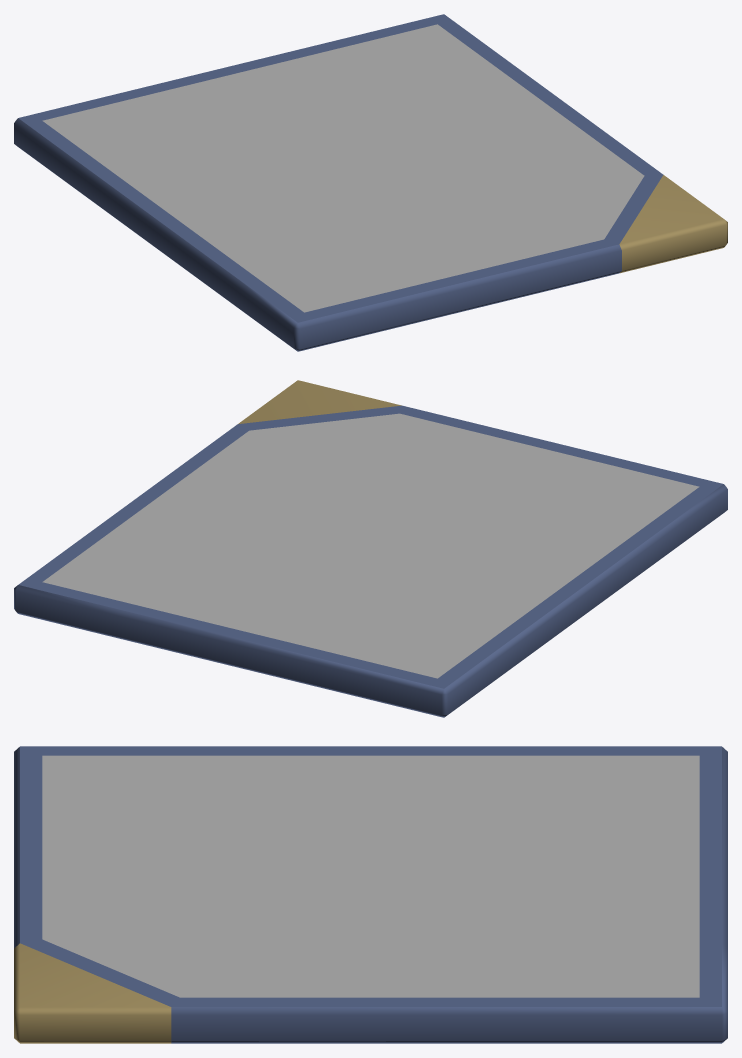
File: ShortSlabStone.fbx
3 views of the same model, one above another, from view 1: azimuth 30°, elevation 25°; view 2: azimuth 150°, elevation 25°; view 3: azimuth 270°, elevation 25° (orthographic). The views are drawn at different scales.
Parts seen in each view (by area): view 1: ShortSlabStone_1, ShortSlabStone_2, ShortSlabStone_3; view 2: ShortSlabStone_1, ShortSlabStone_2, ShortSlabStone_3; view 3: ShortSlabStone_1, ShortSlabStone_2, ShortSlabStone_3.
Part boxes in pixels (x1=…): ShortSlabStone_1: x1=42, y1=24, x2=644, y2=312; ShortSlabStone_2: x1=14, y1=14, x2=663, y2=351; ShortSlabStone_3: x1=619, y1=175, x2=727, y2=273; ShortSlabStone_1: x1=42, y1=413, x2=699, y2=678; ShortSlabStone_2: x1=14, y1=405, x2=727, y2=717; ShortSlabStone_3: x1=238, y1=380, x2=401, y2=423; ShortSlabStone_1: x1=42, y1=755, x2=699, y2=997; ShortSlabStone_2: x1=14, y1=746, x2=727, y2=1043; ShortSlabStone_3: x1=14, y1=943, x2=171, y2=1043.
Bounding box in the file's own units: 5.68 × 0.3634 × 6.45.
